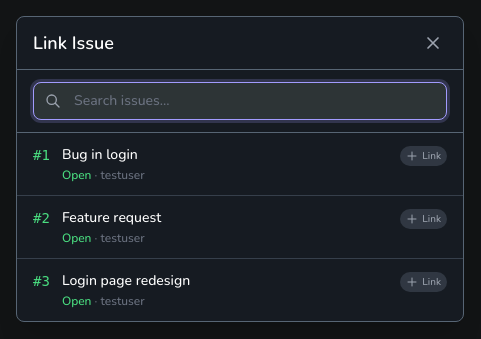
Test: EntityPicker › Search Functionality › filters issues by title (case insensitive)
Type "LOGIN" into the field with placeholder "Search issues..." at point(240, 101), box [33,82,447,120]
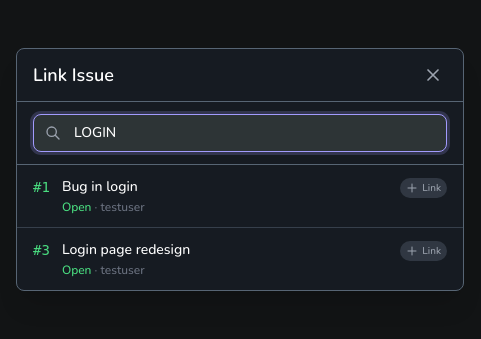
Expected: the text "Bug in login" is shown, [62,176,138,196]
Expected: the button "Feature request" is gone
